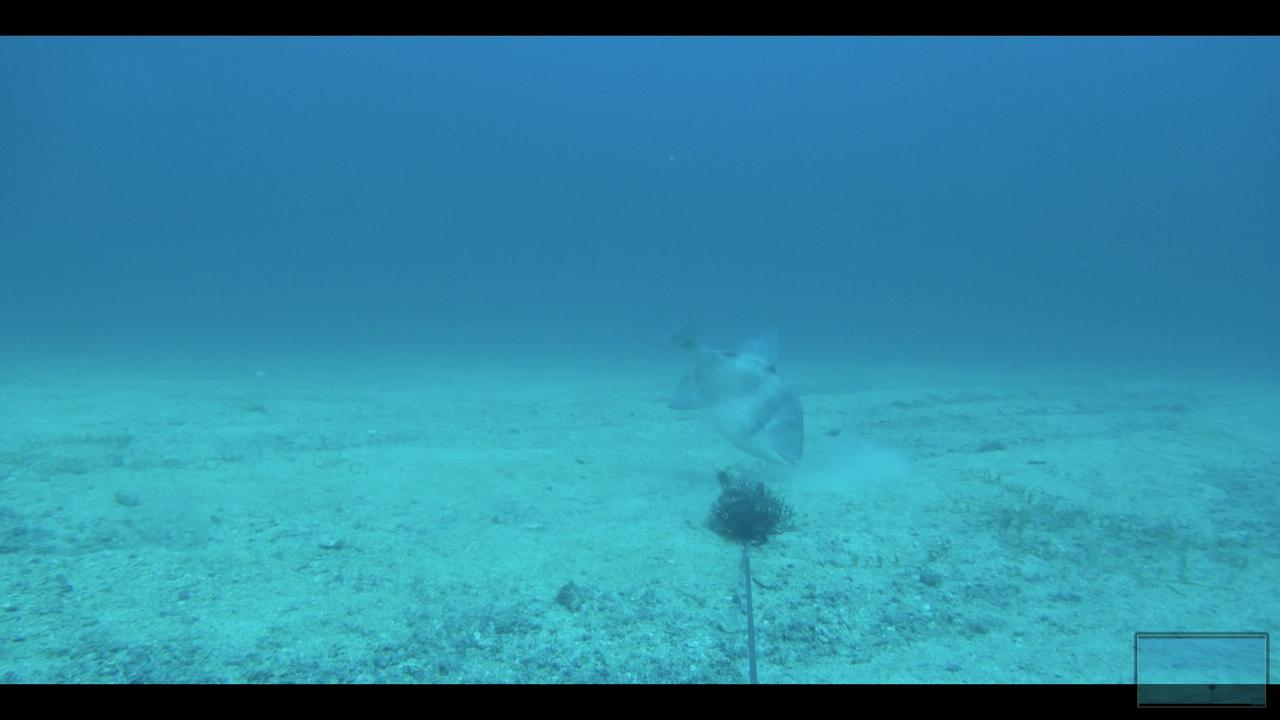balistes: (625, 297, 809, 472)
